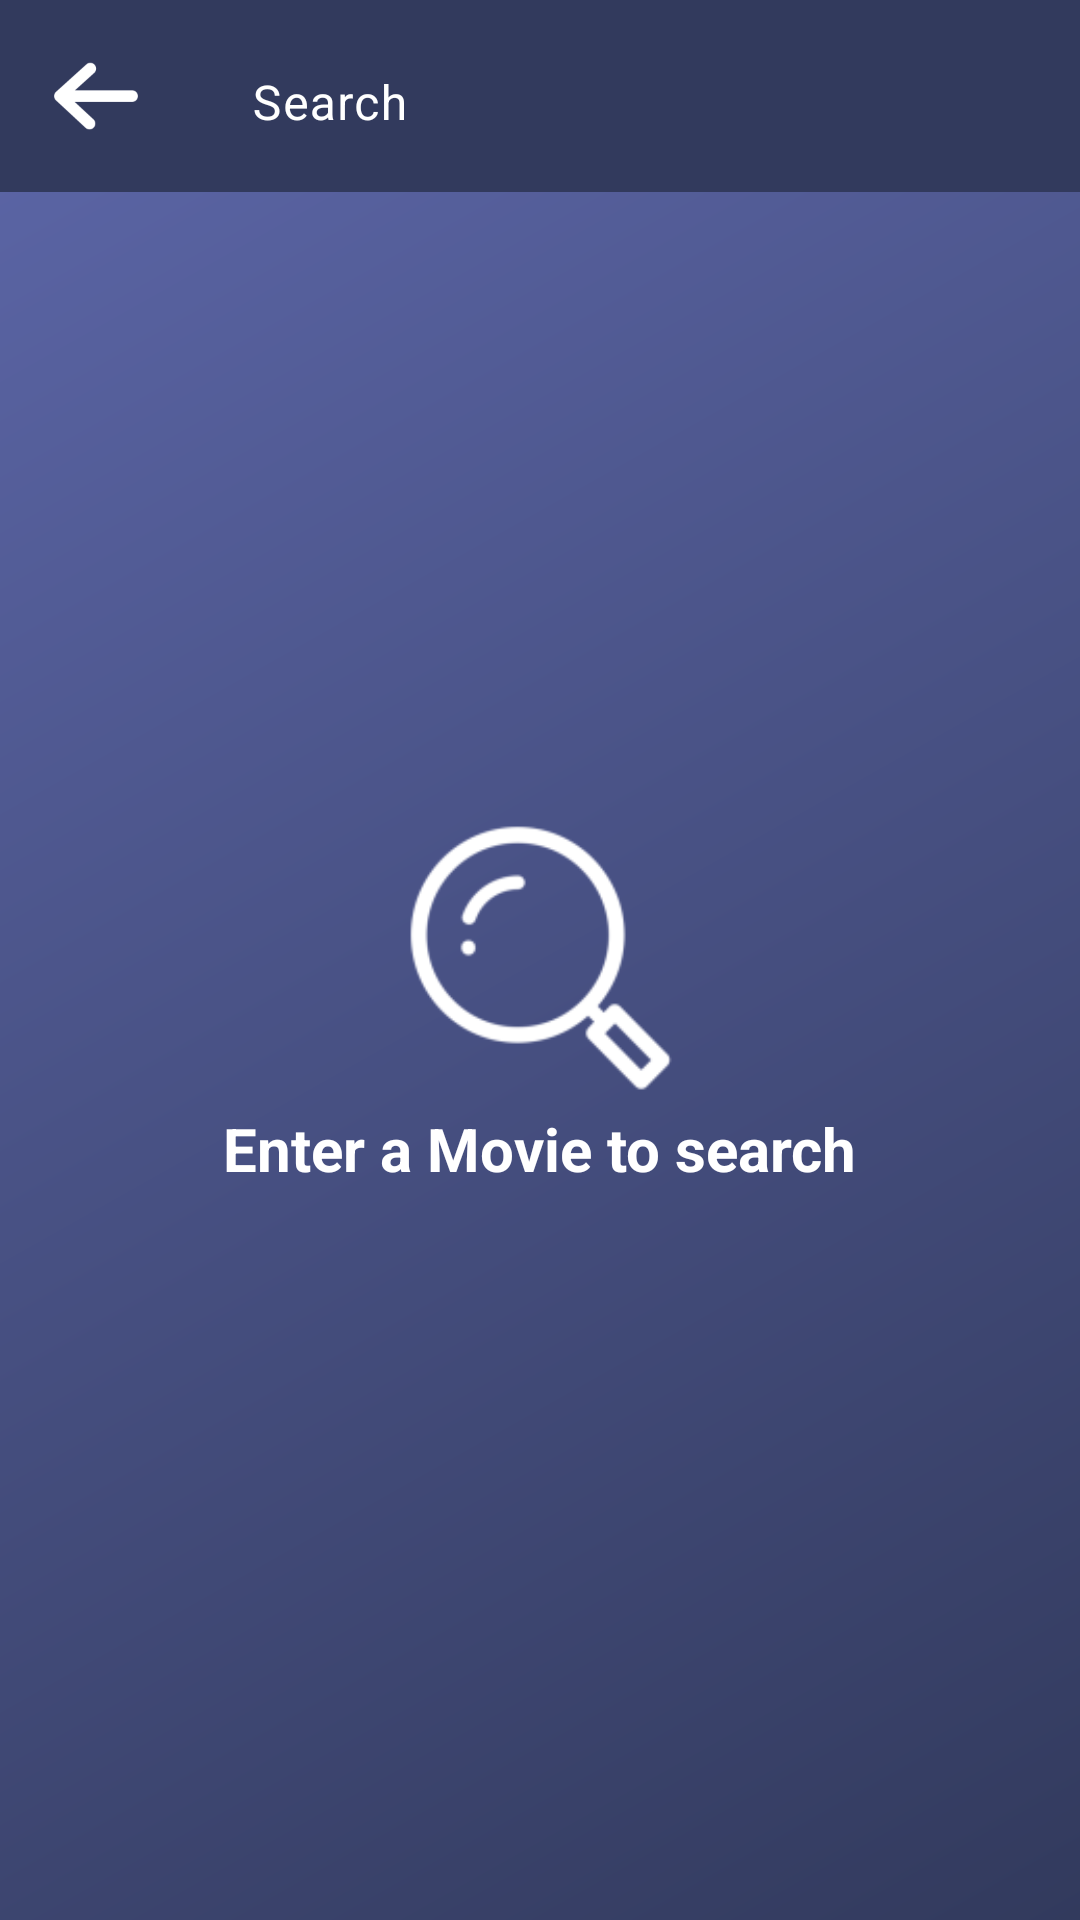

Icons on this 1080 × 1920 Android screen, each with its box as (x1, y1, x2, y2):
back: (54, 62, 138, 130)
